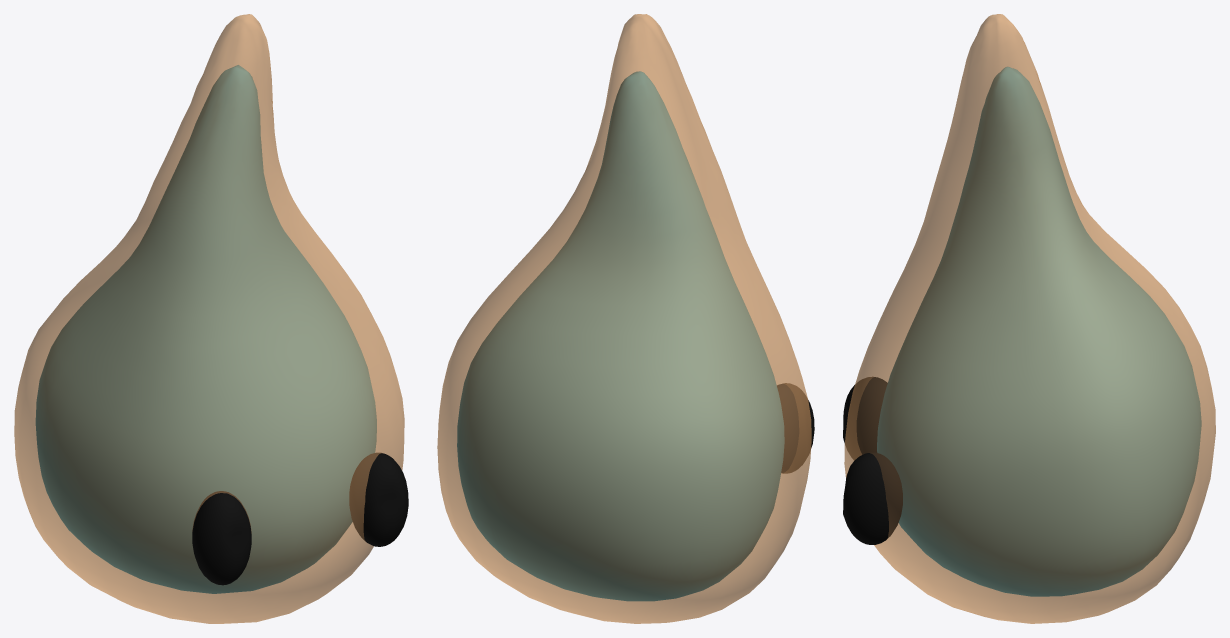
File: waterdrop_edited.fbx
The picture shows the model from 3 angles, left to right: view 1: azimuth 30°, elevation 25°; view 2: azimuth 150°, elevation 25°; view 3: azimuth 270°, elevation 25°; orthographic projection. The views are drawn at different scales.
Visible parts, largest first — view 1: WaterBody1L, WaterBody2L, WaterEyesL; view 2: WaterBody1L, WaterBody2L, WaterEyesL; view 3: WaterBody1L, WaterBody2L, WaterEyesL.
Part boxes in pixels (x1,y1,x2,y2): WaterBody1L: [14, 14, 404, 623]; WaterBody2L: [35, 65, 376, 593]; WaterEyesL: [192, 452, 408, 585]; WaterBody1L: [437, 14, 811, 623]; WaterBody2L: [457, 71, 784, 601]; WaterEyesL: [777, 383, 814, 473]; WaterBody1L: [844, 14, 1215, 623]; WaterBody2L: [877, 66, 1201, 596]; WaterEyesL: [843, 377, 902, 544].
Bounding box in the file's own units: 77.28 × 131 × 75.49.
